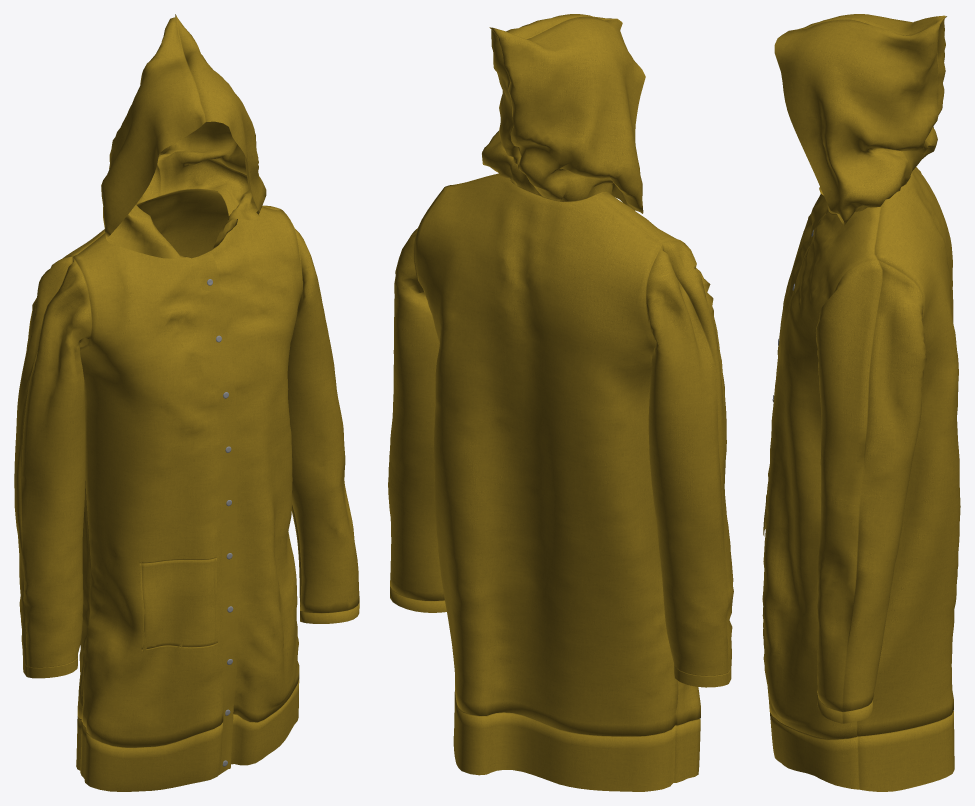
The model's file is raincoat.glb.
3 views of the same model, side by side, from view 1: azimuth 30°, elevation 25°; view 2: azimuth 150°, elevation 25°; view 3: azimuth 270°, elevation 25° (orthographic). The views are drawn at different scales.
Parts seen in each view (by area): view 1: Raincoat, Strip Buttons, Poket, Poket.001; view 2: Raincoat; view 3: Raincoat.
Boxes of the visible parts, x1,y1,x2,y2 form: Raincoat: (14,14,359,791); Strip Buttons: (194,254,238,775); Poket: (141,557,217,651); Poket.001: (139,556,216,599); Raincoat: (388,14,733,791); Raincoat: (762,14,960,791).
Size of the model in its own units: 0.5935 by 1.23 by 0.2931.
Materials: 2 (1 with a texture image).
